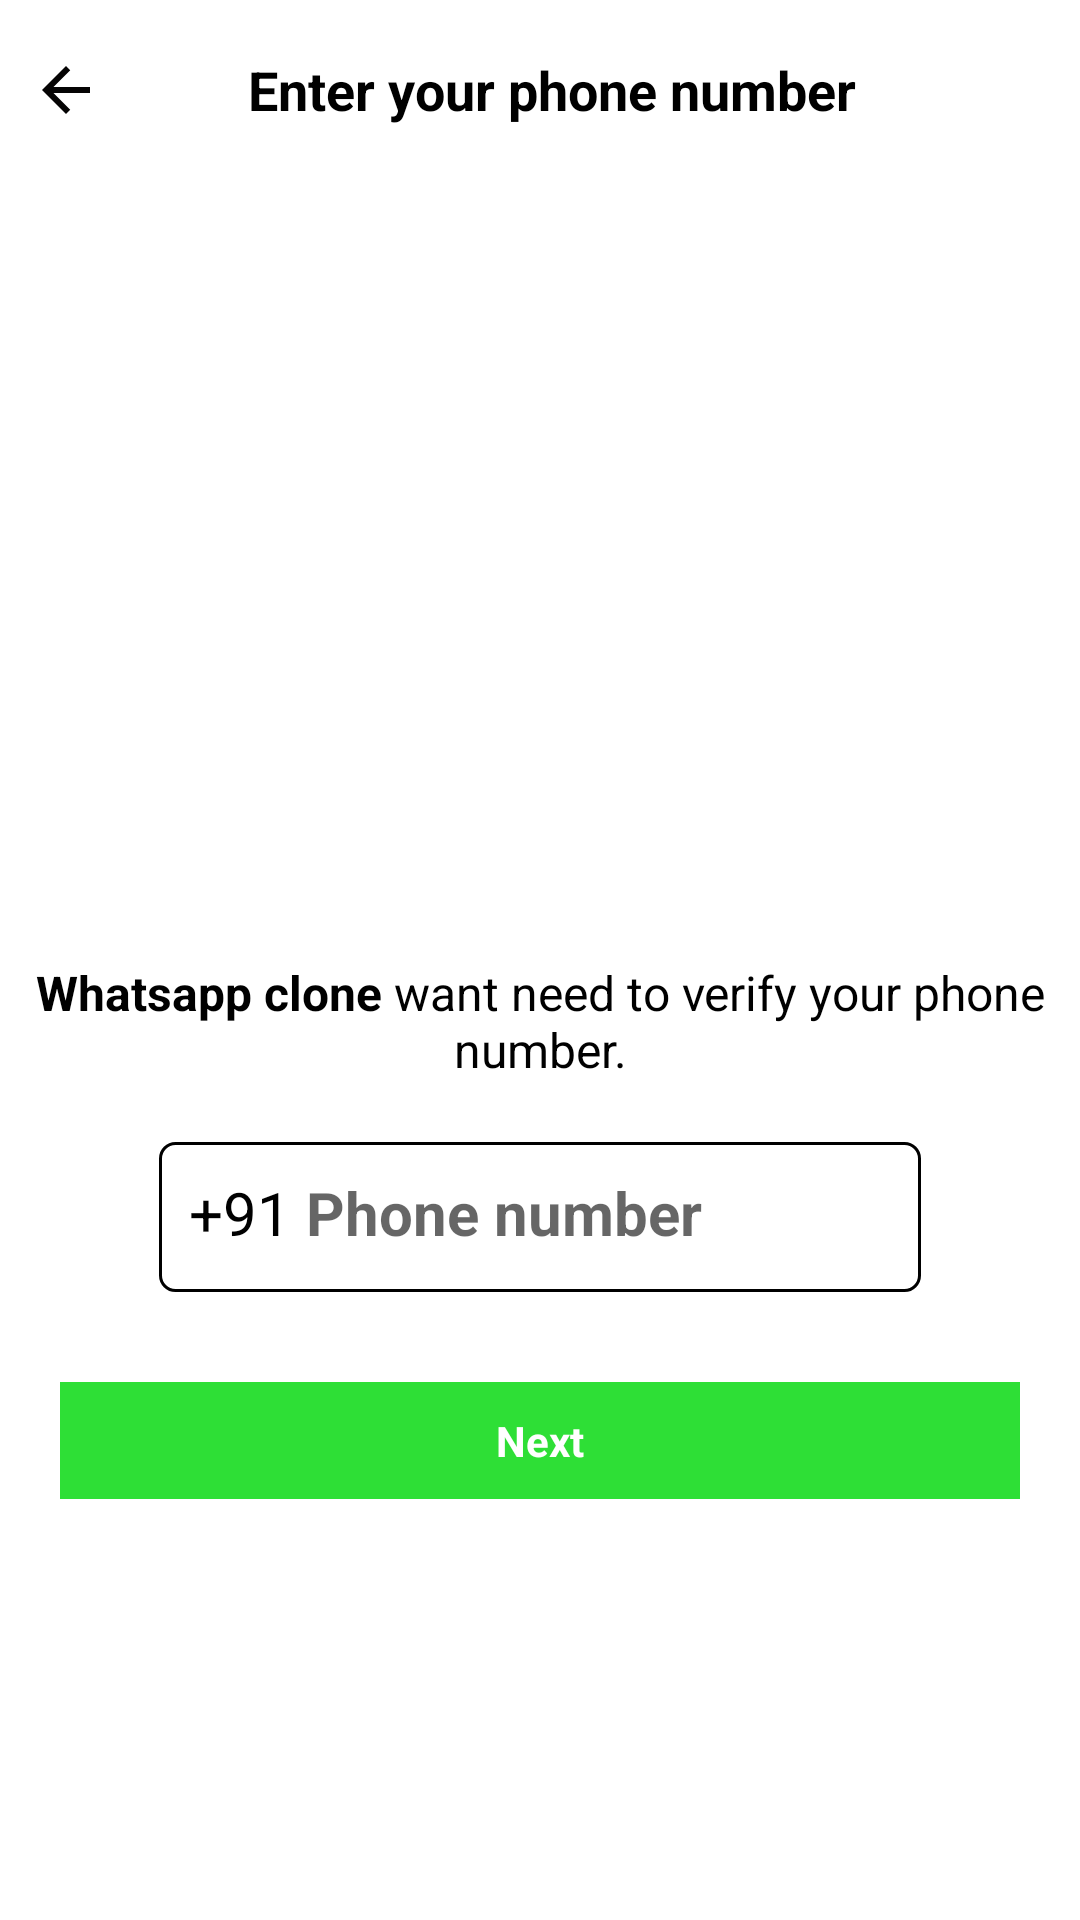

Point at icon controls on the screen. Image size 1080px×1920px, points as (x=x, y=y).
arrow back: (x=66, y=90)
